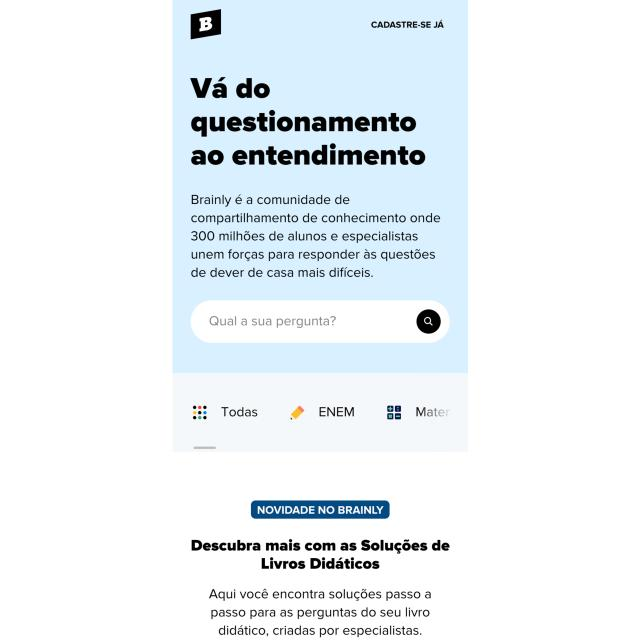input: (190, 298, 451, 346)
logo: (190, 8, 222, 40)
